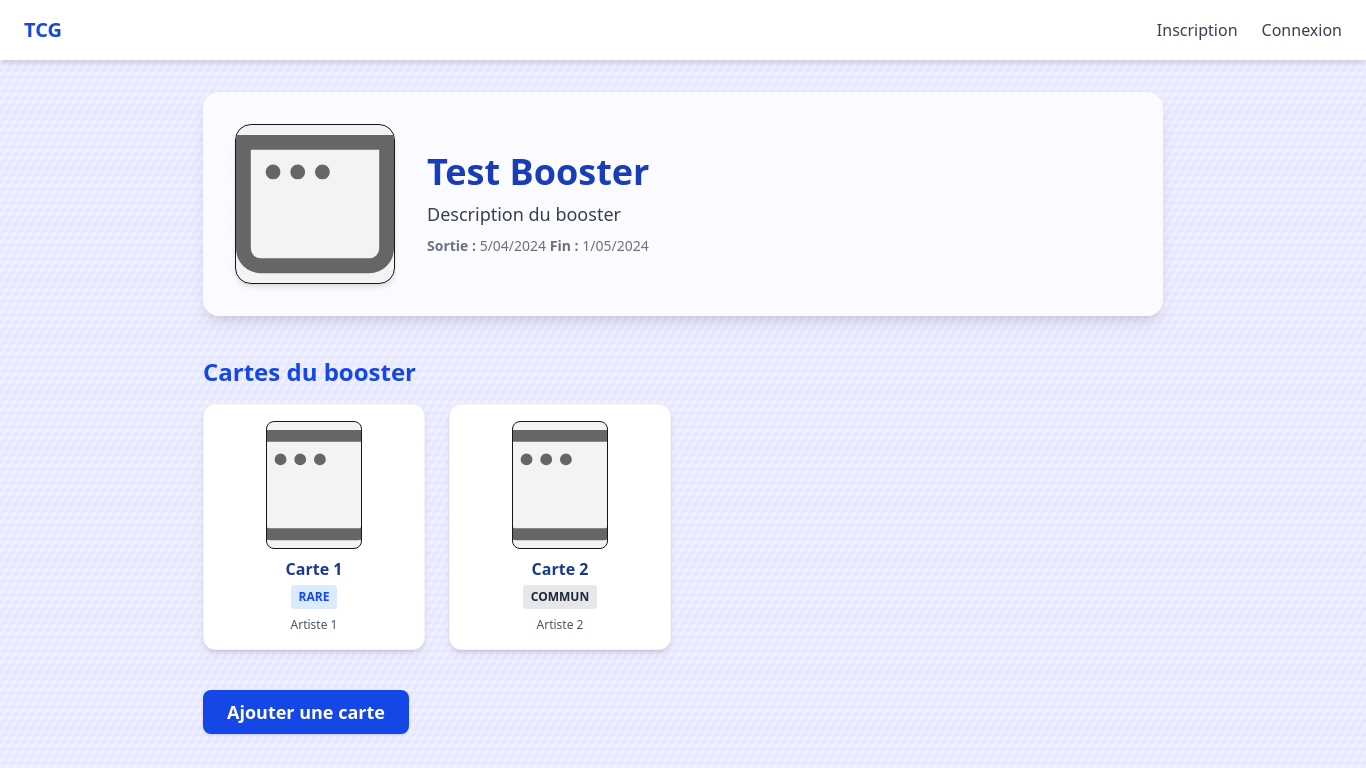
Test: BoosterDetailPage › ouvre la modal d'ajout de carte au clic
This screenshot has width=1366, height=768.
Click the button "Ajouter une carte".
click(306, 712)  # box top-left (203, 690), bottom-right (409, 734)
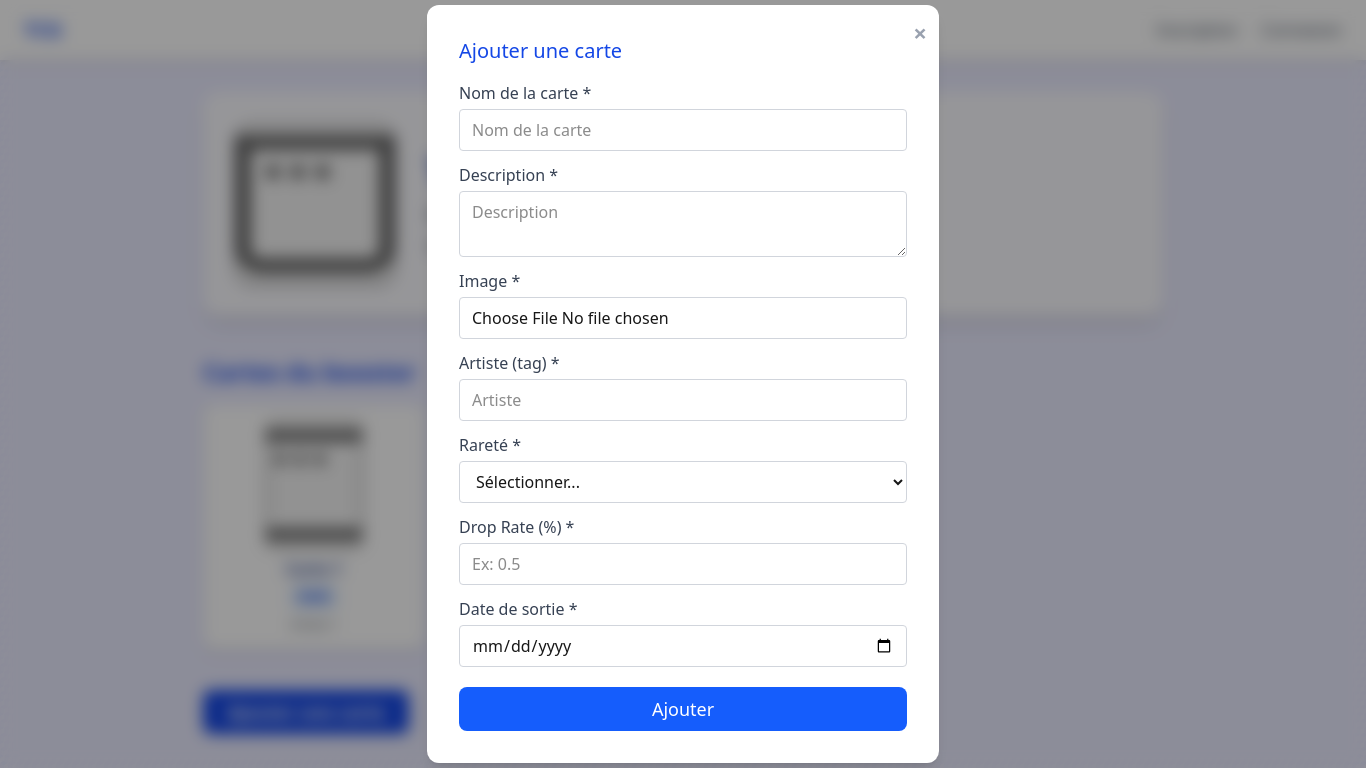
Expected: the heading "Ajouter une carte" is shown, top-left (459, 37), bottom-right (622, 64)
Expected: the field labelled "Nom de la carte *" is shown, top-left (459, 109), bottom-right (907, 151)
